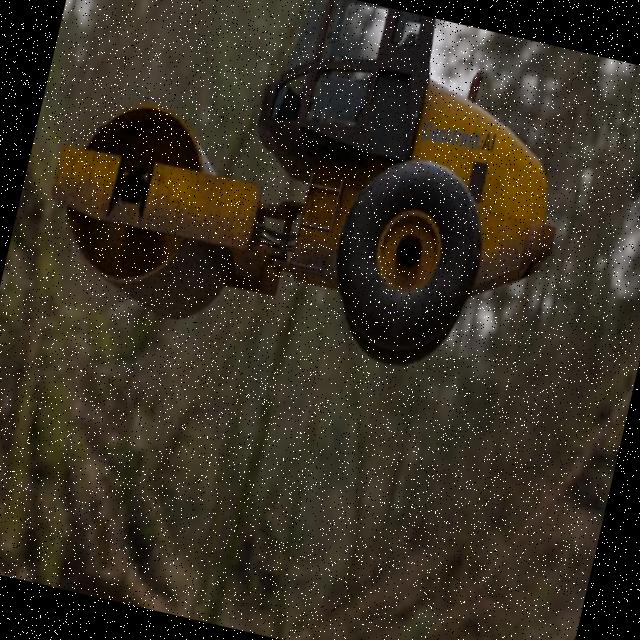Roller: (27, 0, 596, 401)
